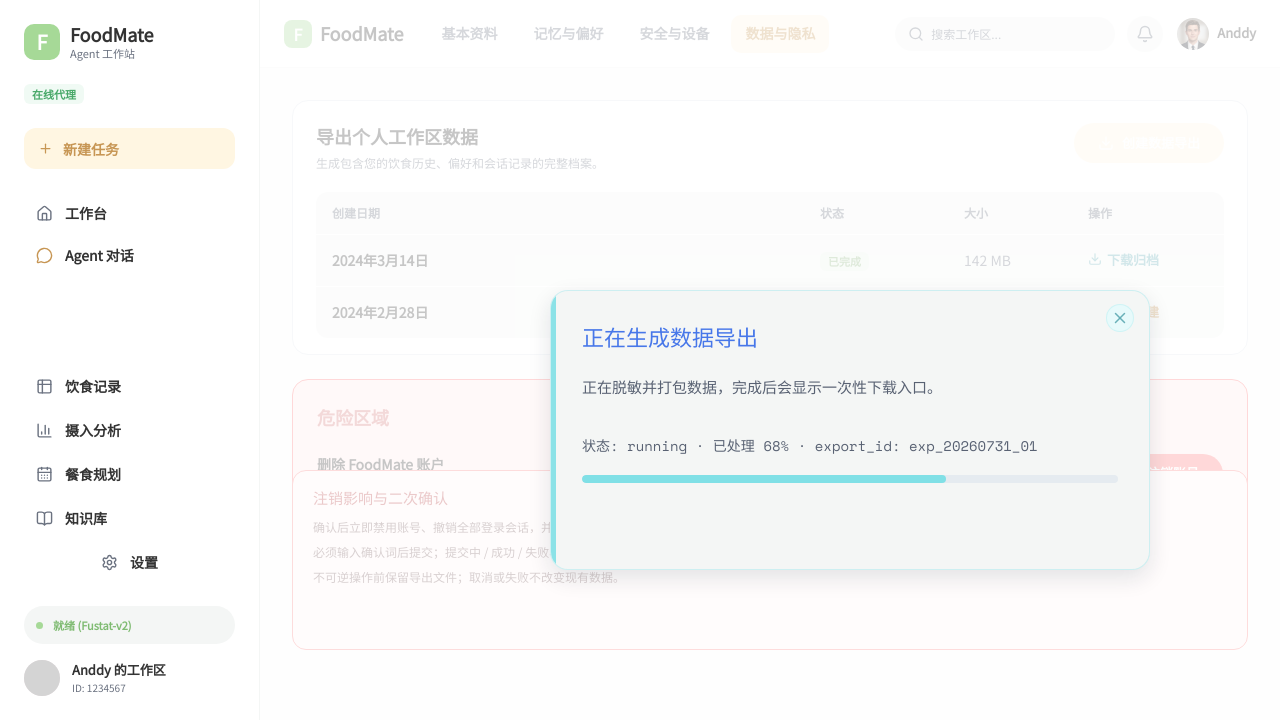
Test: ProfilePage › renders and dismisses the Figma export running fixture
The image size is (1280, 720).
Expected: the heading "正在生成数据导出" is shown, 582,320 -> 758,352
Expected: the text "正在脱敏并打包数据，完成后会显示一次性下载入口。" is shown, 582,376 -> 942,397
What coordinates should you click on to do the following:
click the button named "关闭"
I would click on:
 (1120, 318)
Its box is 1106,304 -> 1134,332.
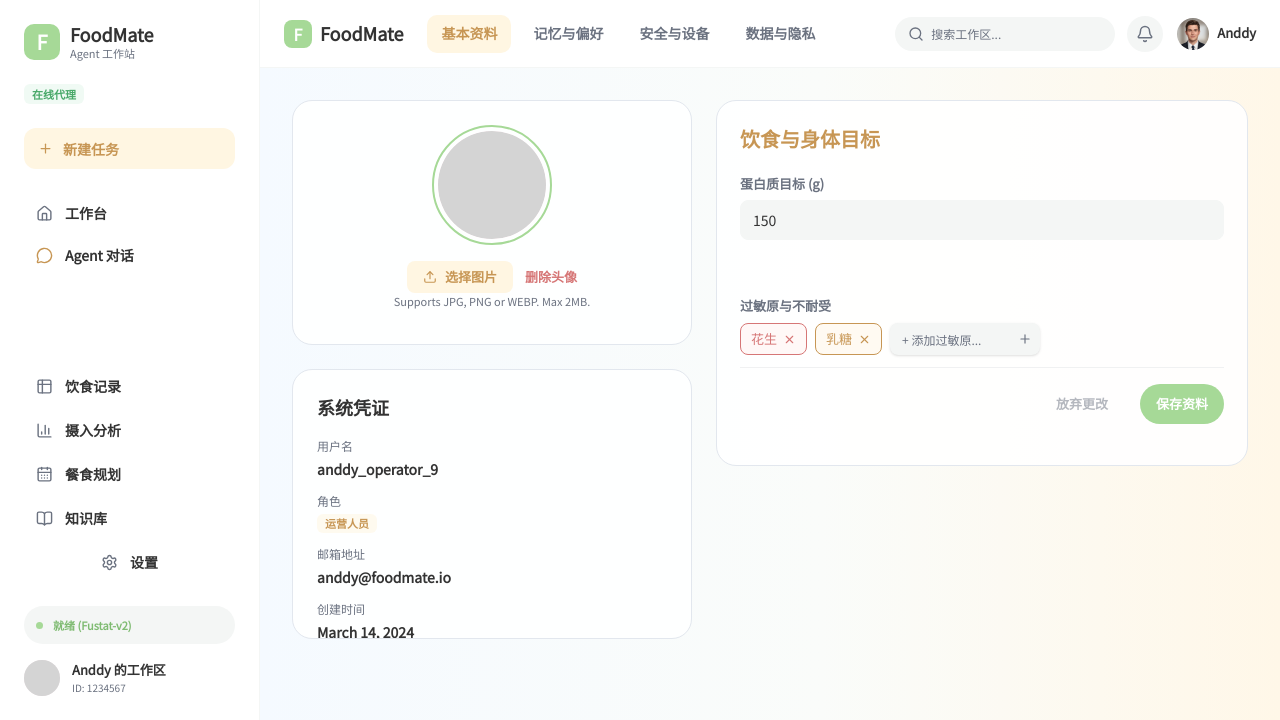
Expected: the heading "正在生成数据导出" is gone
